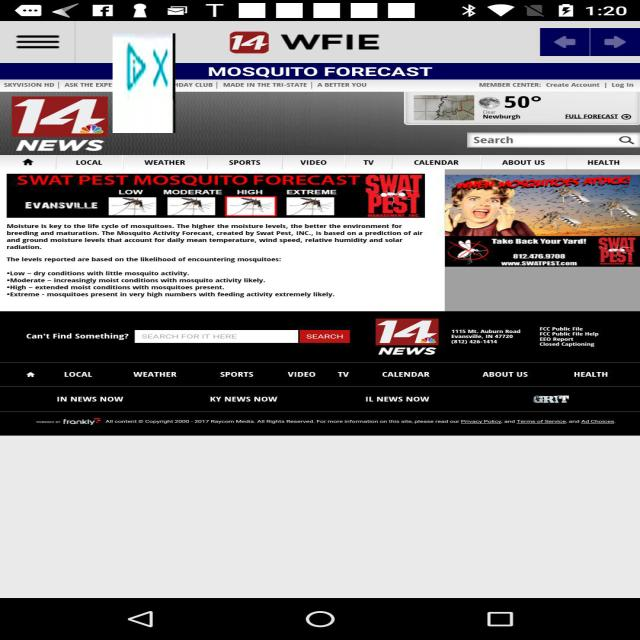sneaking: (112, 33, 176, 133)
